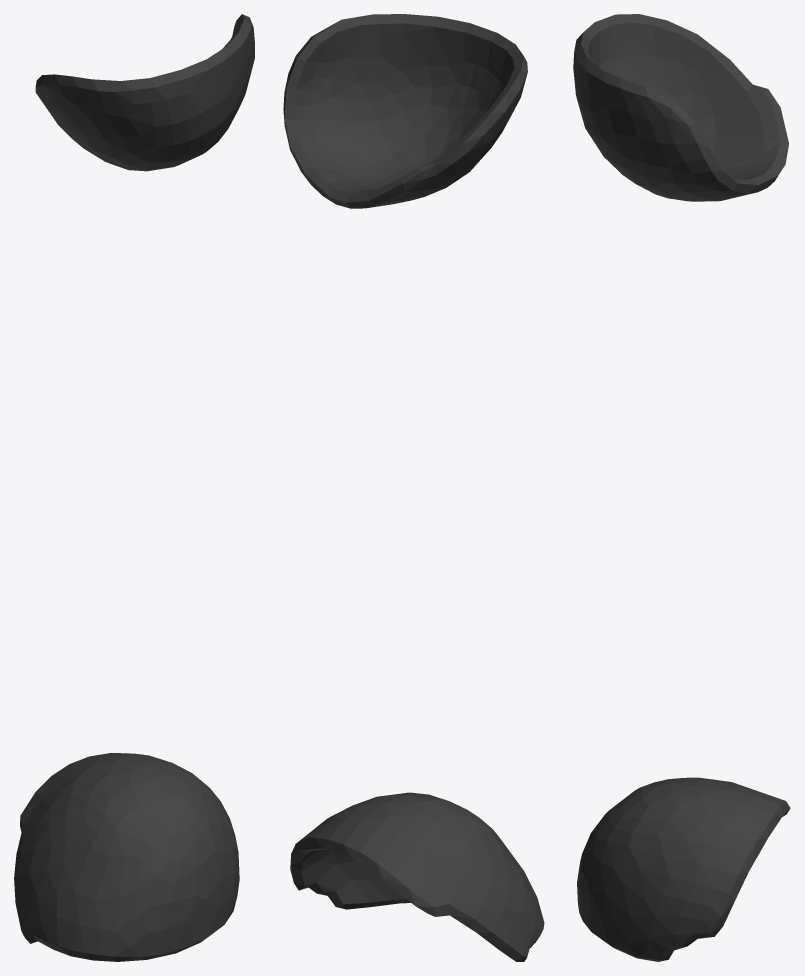
File: Pelvis_acetabulam.glb
3 views of the same model, side by side, from view 1: azimuth 30°, elevation 25°; view 2: azimuth 150°, elevation 25°; view 3: azimuth 270°, elevation 25° (orthographic).
Parts seen in each view (by area): view 1: Pelvis_acetabulam; view 2: Pelvis_acetabulam; view 3: Pelvis_acetabulam.
Boxes of the visible parts, x1,y1,x2,y2 form: Pelvis_acetabulam: [14, 14, 254, 961]; Pelvis_acetabulam: [283, 14, 544, 961]; Pelvis_acetabulam: [573, 14, 790, 961].
Size of the model in its own units: 0.9742 by 3.59 by 0.8008.
Materials: 1 (1 with a texture image).
